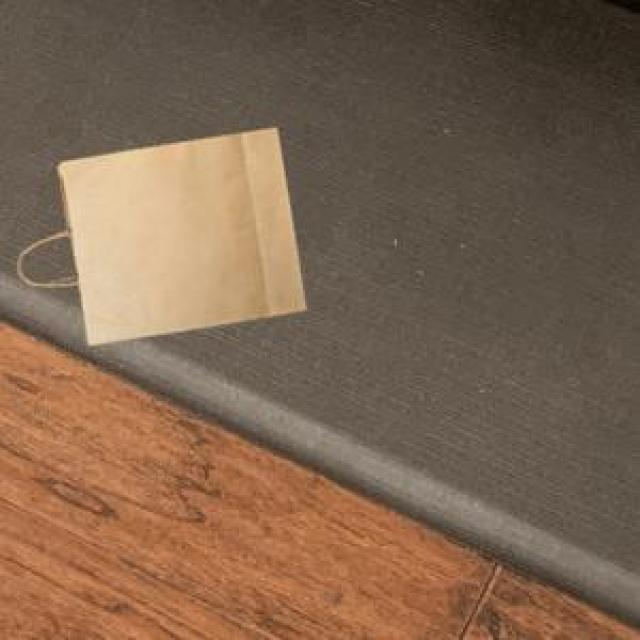paper: (51, 124, 301, 341)
